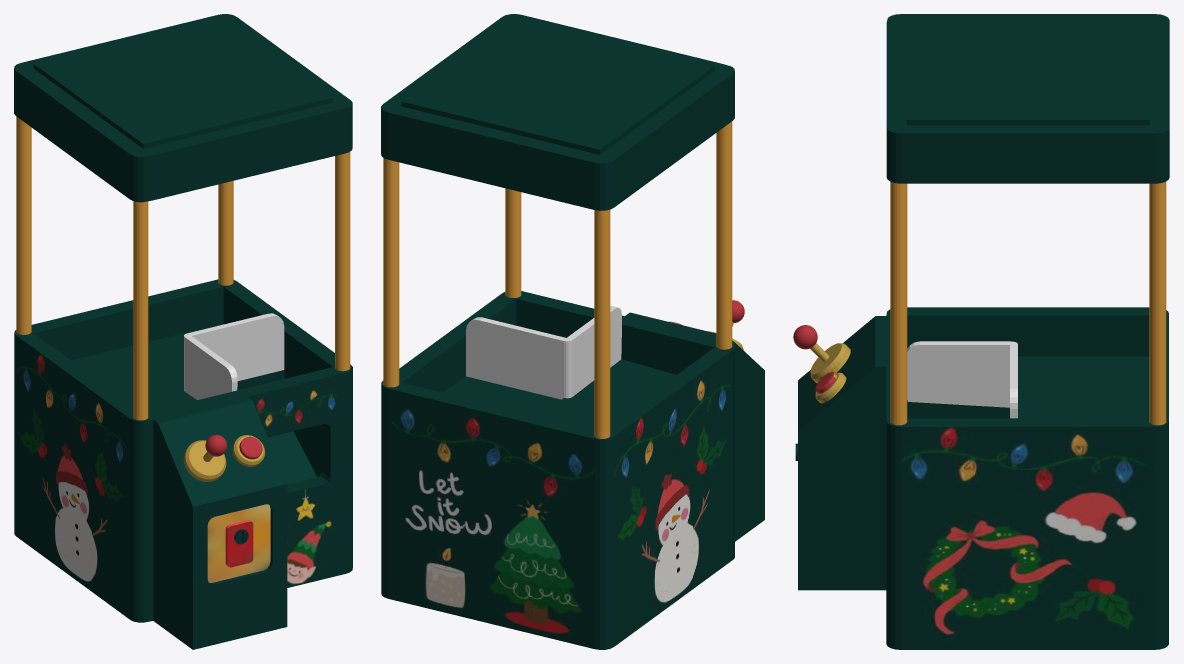
File: ClawMachine.fbx
3 views of the same model, side by side, from view 1: azimuth 30°, elevation 25°; view 2: azimuth 150°, elevation 25°; view 3: azimuth 270°, elevation 25° (orthographic). The views are drawn at different scales.
Visible parts, largest first — view 1: machine, column.003, column, column.002, column.001, controller, button; view 2: machine, column.002, column.001, column.003, column; view 3: machine, column.001, column, controller, button.
Part boxes in pixels (box(x1,y1,x2,y2)): machine: box(14, 14, 352, 649); column.003: box(133, 201, 148, 420); column: box(335, 152, 350, 371); column.002: box(16, 116, 31, 334); column.001: box(218, 181, 233, 285); controller: box(183, 434, 227, 481); button: box(232, 435, 265, 466); machine: box(381, 14, 764, 649); column.002: box(594, 209, 610, 438); column.001: box(383, 158, 399, 387); column.003: box(716, 121, 732, 349); column: box(505, 188, 521, 297); machine: box(795, 14, 1169, 649); column.001: box(1149, 181, 1166, 425); column: box(890, 182, 907, 425); controller: box(793, 325, 850, 383); button: box(815, 372, 846, 403).
Size of the model in its own units: 400 by 814 by 532.
